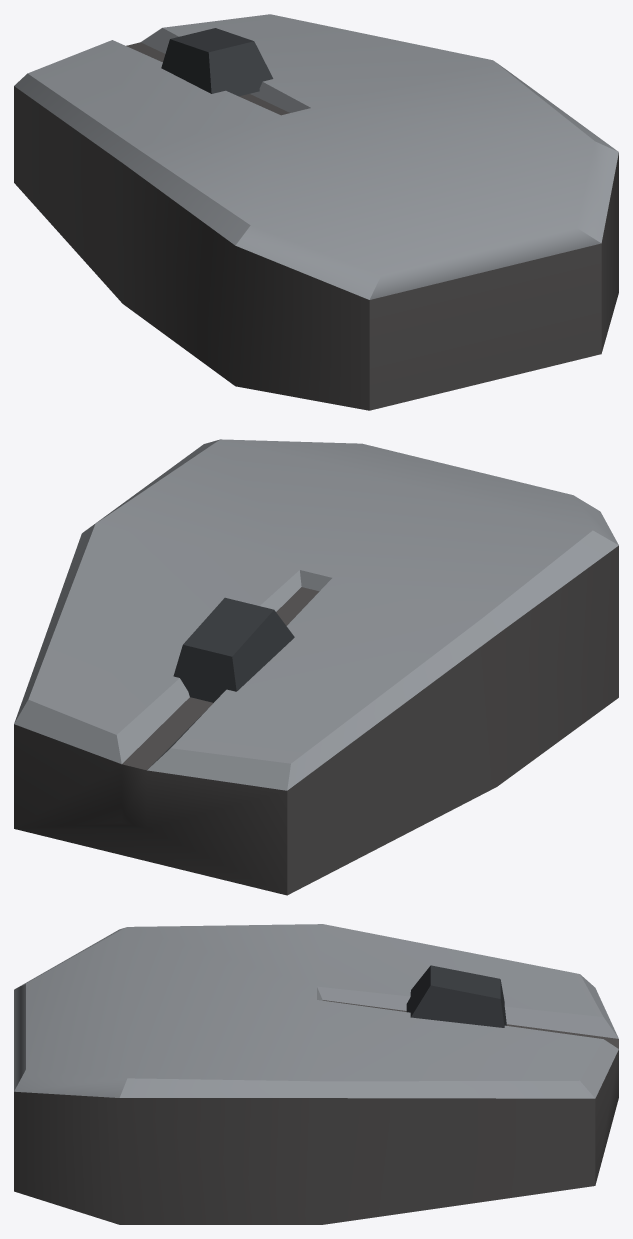
File: SM_Prop_Computer_Mouse_02.glb
The picture shows the model from 3 angles, top to bottom: view 1: azimuth 30°, elevation 25°; view 2: azimuth 150°, elevation 25°; view 3: azimuth 270°, elevation 25°; orthographic projection. The views are drawn at different scales.
Parts seen in each view (by area): view 1: SM_Prop_Computer_Mouse_02; view 2: SM_Prop_Computer_Mouse_02; view 3: SM_Prop_Computer_Mouse_02.
Boxes of the visible parts, x1,y1,x2,y2 form: SM_Prop_Computer_Mouse_02: (14, 14, 618, 410); SM_Prop_Computer_Mouse_02: (14, 439, 618, 895); SM_Prop_Computer_Mouse_02: (14, 924, 618, 1224).
Bounding box in the file's own units: 0.0854 × 0.0366 × 0.1294.
Materials: 1 (1 with a texture image).
